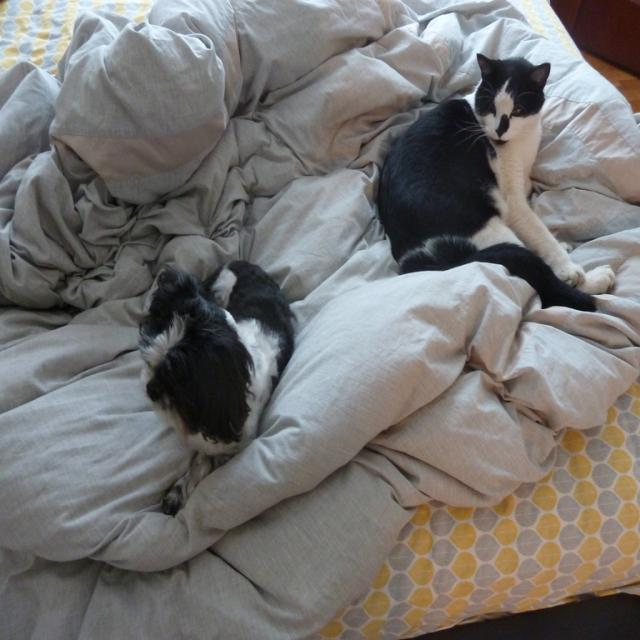Cat: (378, 49, 614, 312)
